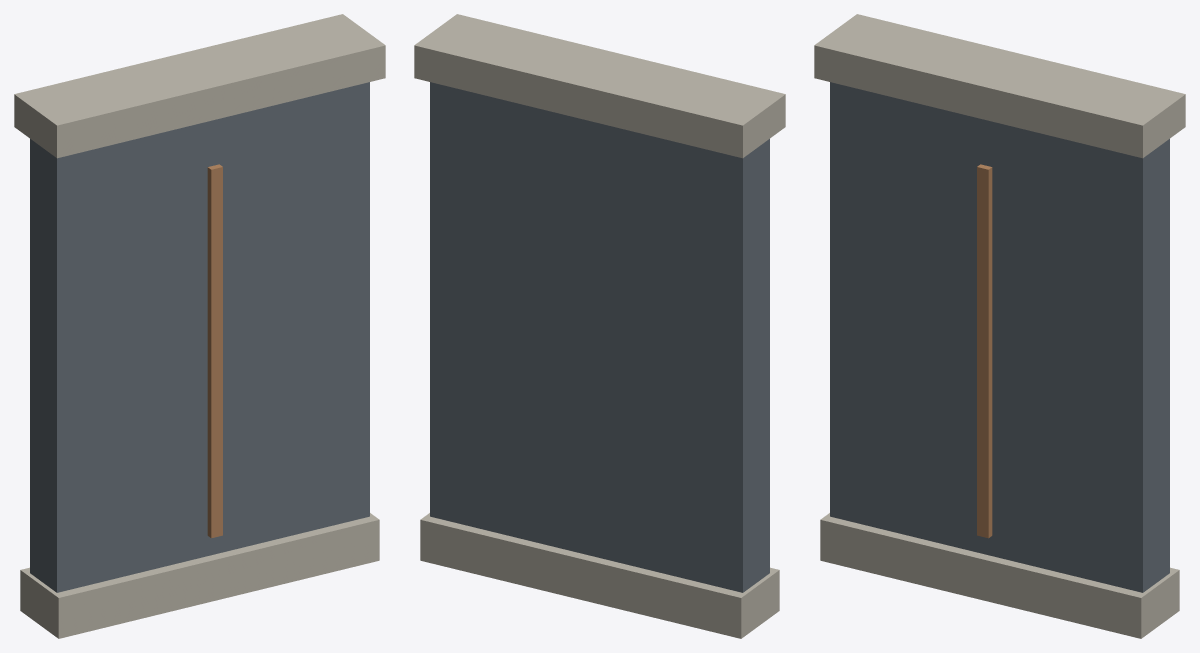
The model's file is SM_AEON_Wall_4m.glb.
3 views of the same model, side by side, from view 1: azimuth 30°, elevation 25°; view 2: azimuth 150°, elevation 25°; view 3: azimuth 330°, elevation 25° (orthographic).
Parts seen in each view (by area): view 1: SM_AEON_Wall_4m; view 2: SM_AEON_Wall_4m; view 3: SM_AEON_Wall_4m.
Boxes of the visible parts, x1,y1,x2,y2 form: SM_AEON_Wall_4m: (14,14,385,638); SM_AEON_Wall_4m: (414,14,785,638); SM_AEON_Wall_4m: (814,14,1185,638).
Bounding box in the file's own units: 4.2 × 6.3 × 0.95.
